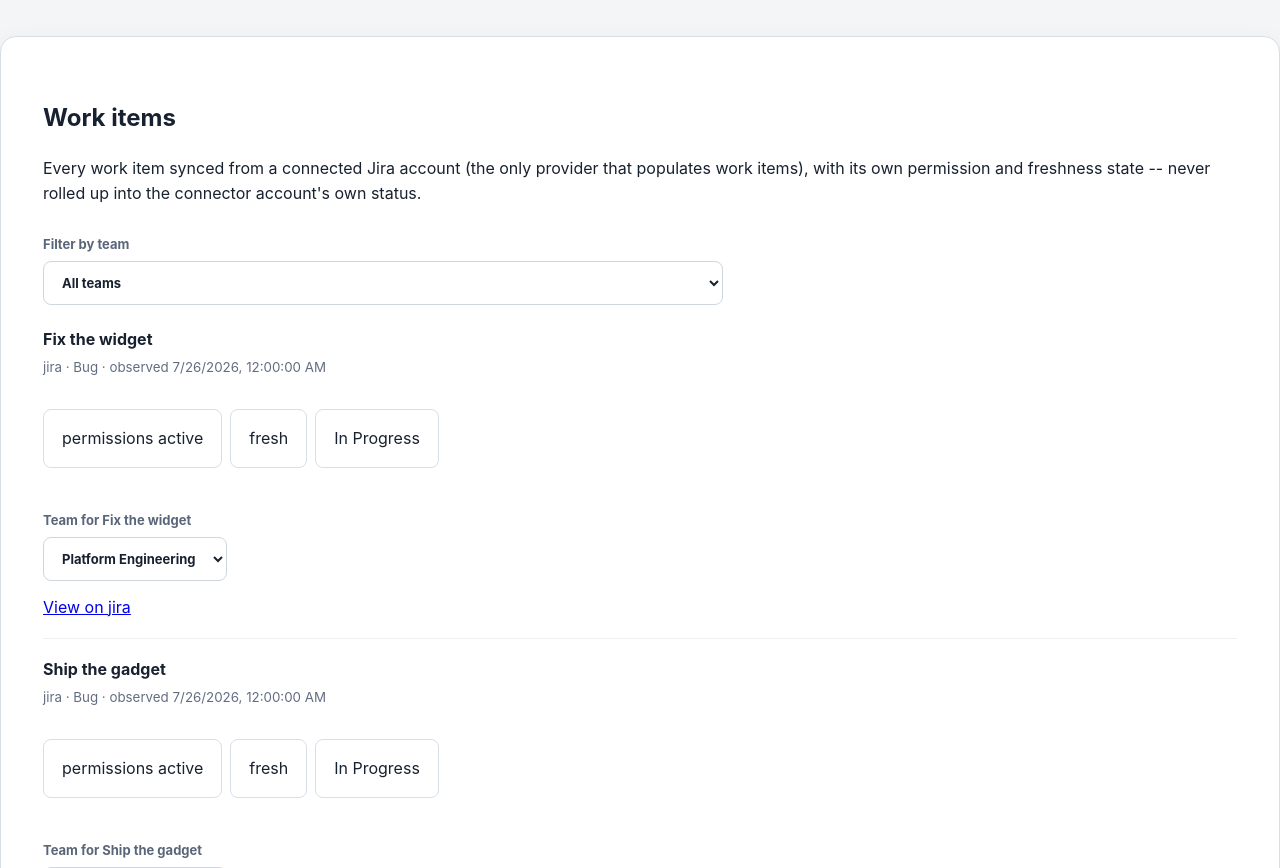
Test: WorkItemsPanel › filtering by team only shows work items assigned to that team
The width and height of the screenshot is (1280, 868).
Expected: the text "Fix the widget" is shown, [43,329,152,349]
Expected: the text "Ship the gadget" is shown, [43,659,166,679]
Step 1. Select "Platform Engineering" in the dropdown named "Filter work items by team" → (383, 283), box [43,261,723,305]
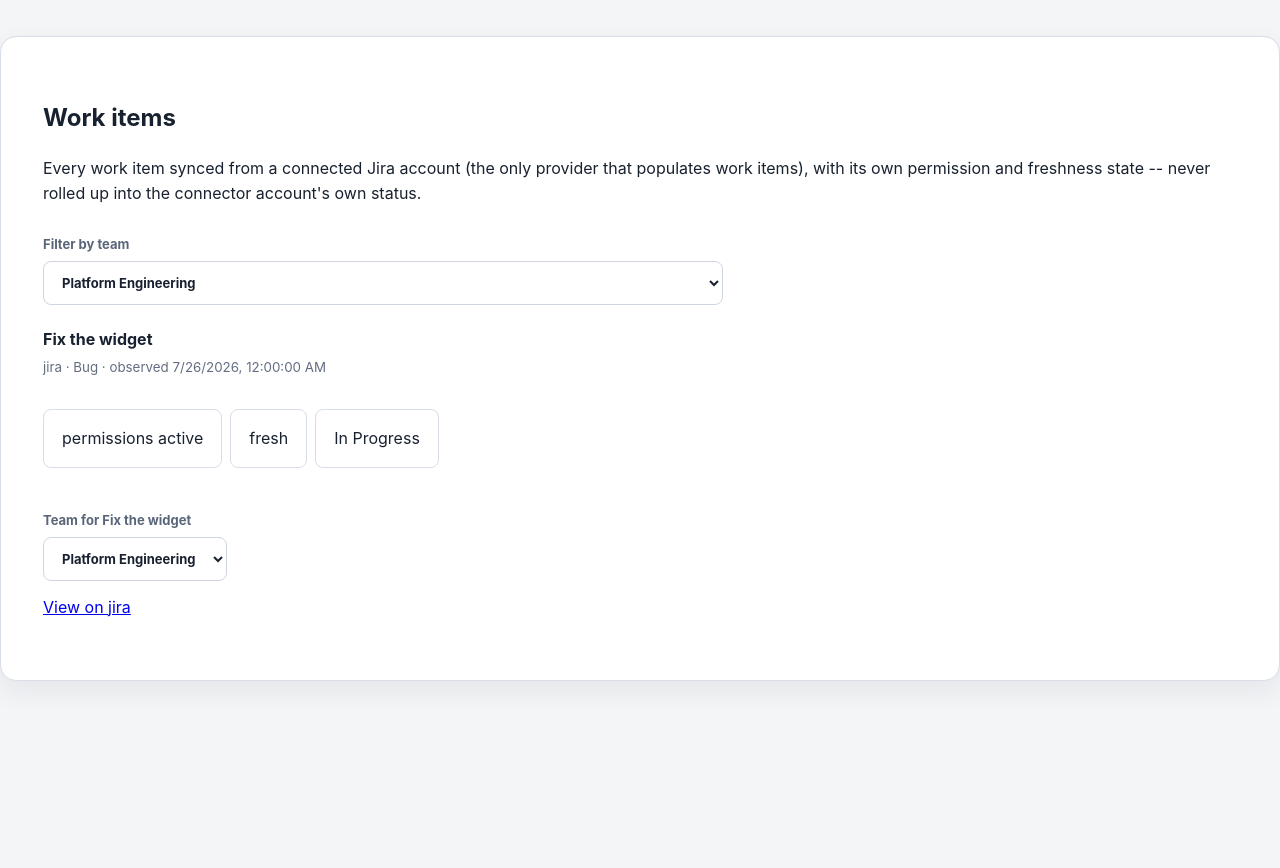
Expected: the text "Fix the widget" is shown, [43,329,152,349]
Now the text "Ship the gadget" is gone
